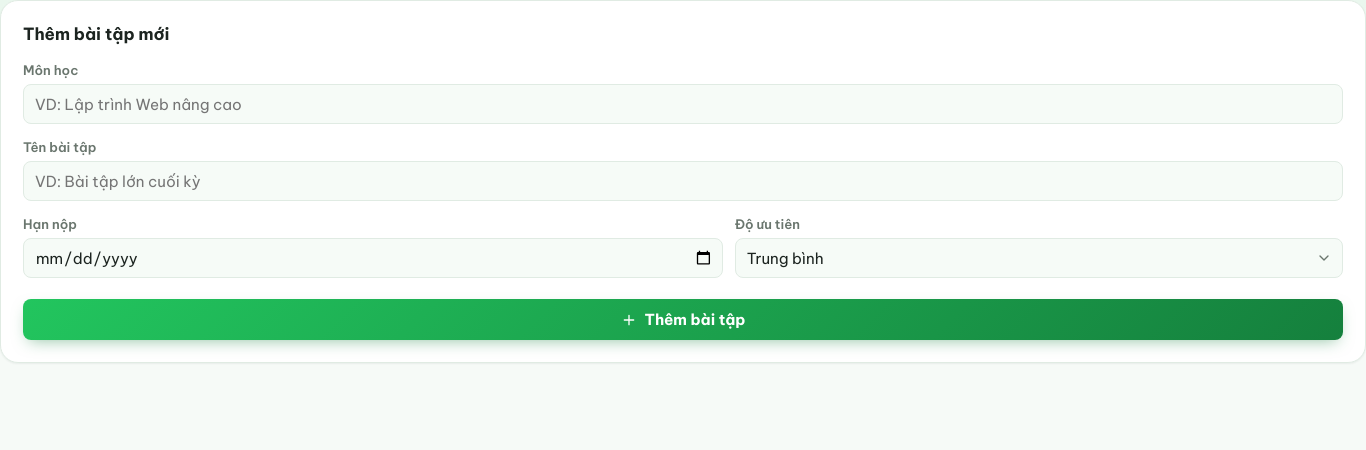
Test: AssignmentForm › hiện lỗi validate và không thêm bài khi bỏ trống
Click the button "Thêm bài tập".
click(683, 320)  # box x1=23 y1=299 x2=1343 y2=340
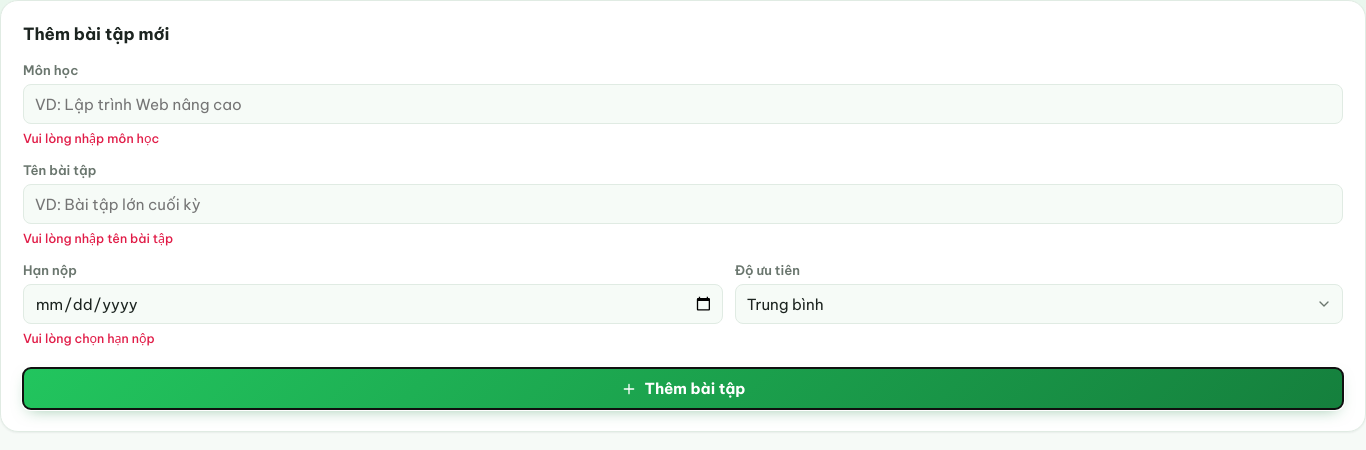
Check: the text "Vui lòng nhập môn học" is shown, box x1=23 y1=131 x2=159 y2=146
Check: the text "Vui lòng nhập tên bài tập" is shown, box x1=23 y1=231 x2=173 y2=246
Check: the text "Vui lòng chọn hạn nộp" is shown, box x1=23 y1=331 x2=155 y2=346
